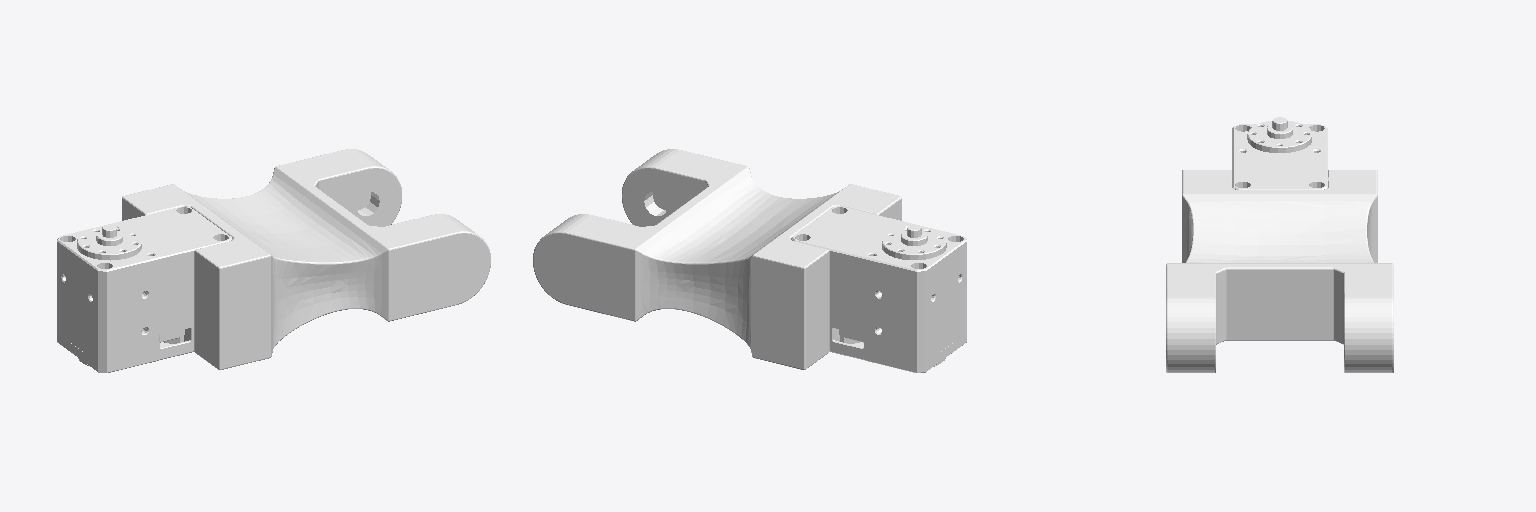
Rendered from arm_proximal_link.obj.
3 views of the same model, side by side, from view 1: azimuth 30°, elevation 25°; view 2: azimuth 150°, elevation 25°; view 3: azimuth 270°, elevation 25° (orthographic).
Visible parts, largest first — view 1: shape0.003; view 2: shape0.003; view 3: shape0.003.
Boxes of the visible parts, x1=… form: shape0.003: x1=57, y1=149, x2=490, y2=372; shape0.003: x1=533, y1=149, x2=966, y2=372; shape0.003: x1=1166, y1=117, x2=1393, y2=372.
Size of the model in its own units: 0.1232 by 0.0424 by 0.068.